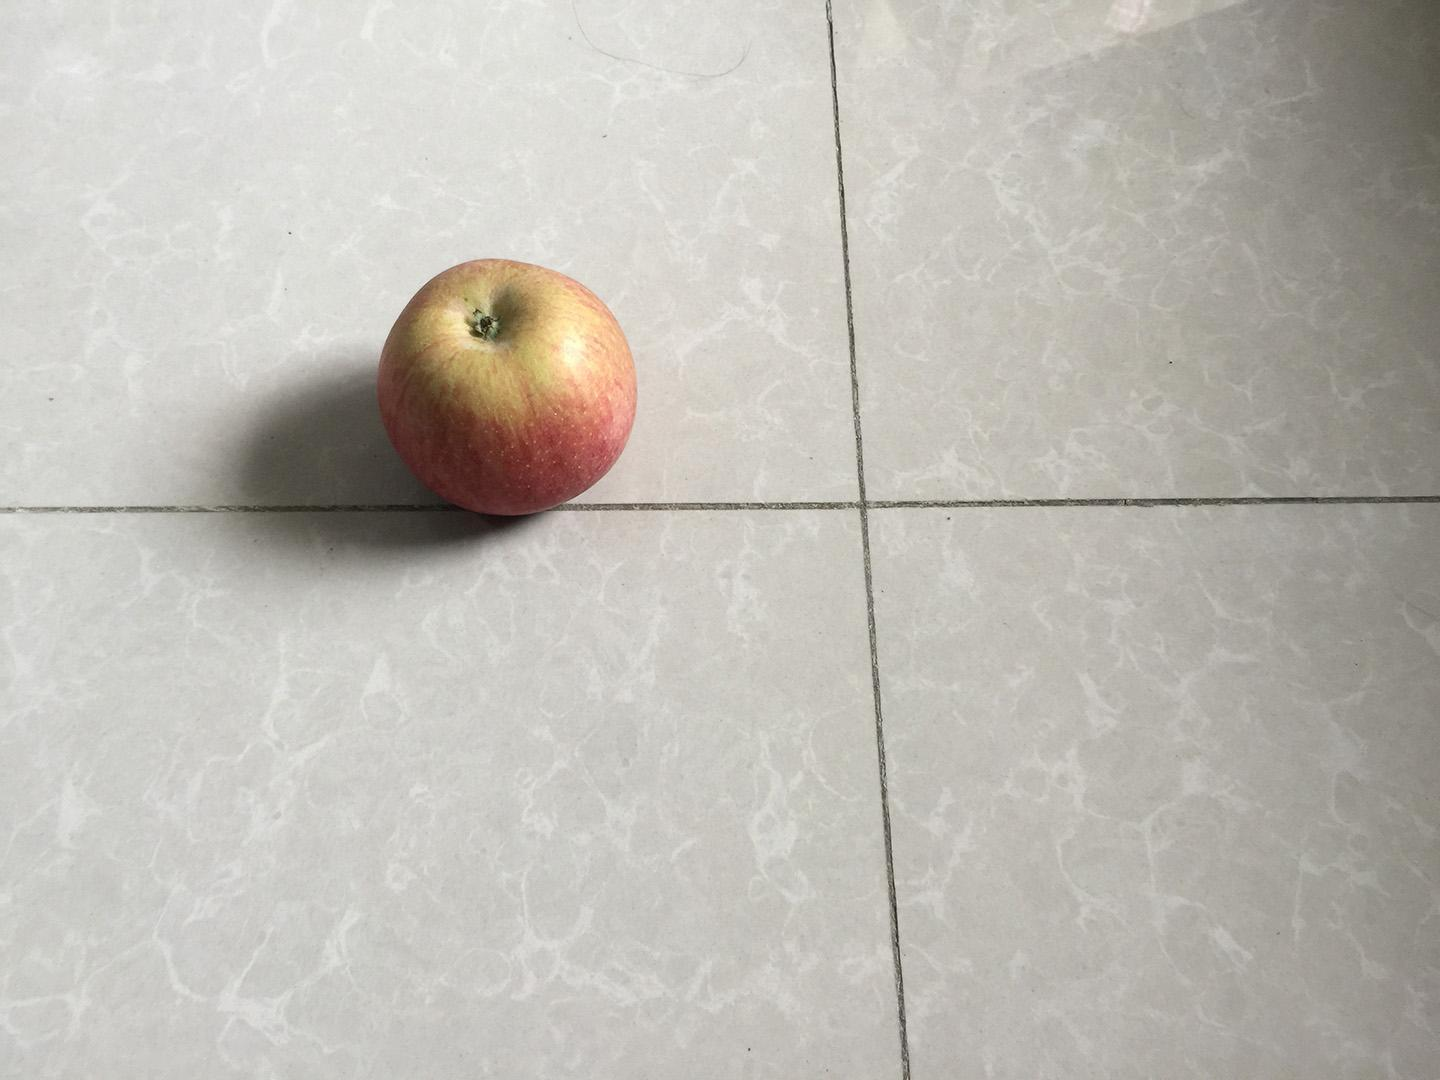apple: (369, 254, 644, 523)
